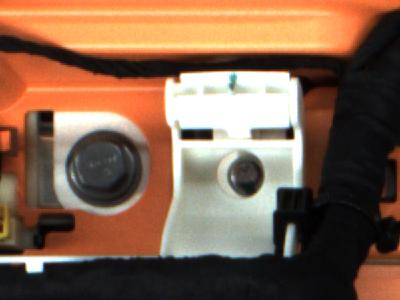nut_b: (55, 116, 160, 217)
